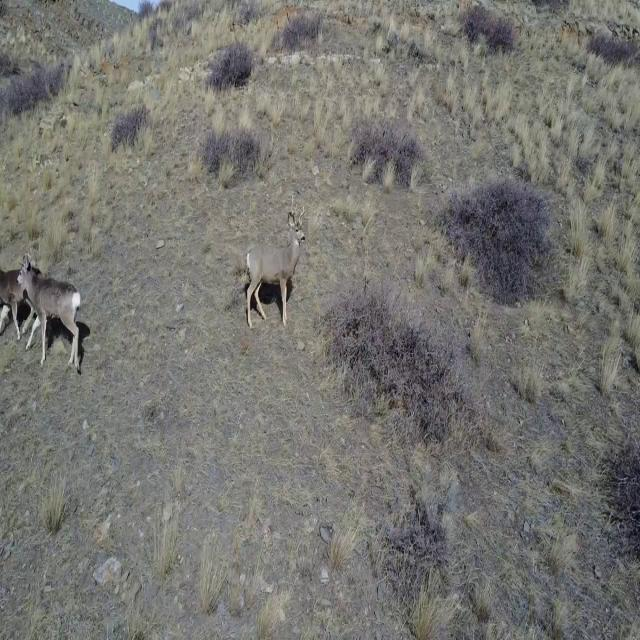Deer: (244, 201, 310, 331), (17, 256, 85, 373), (2, 257, 24, 341)
